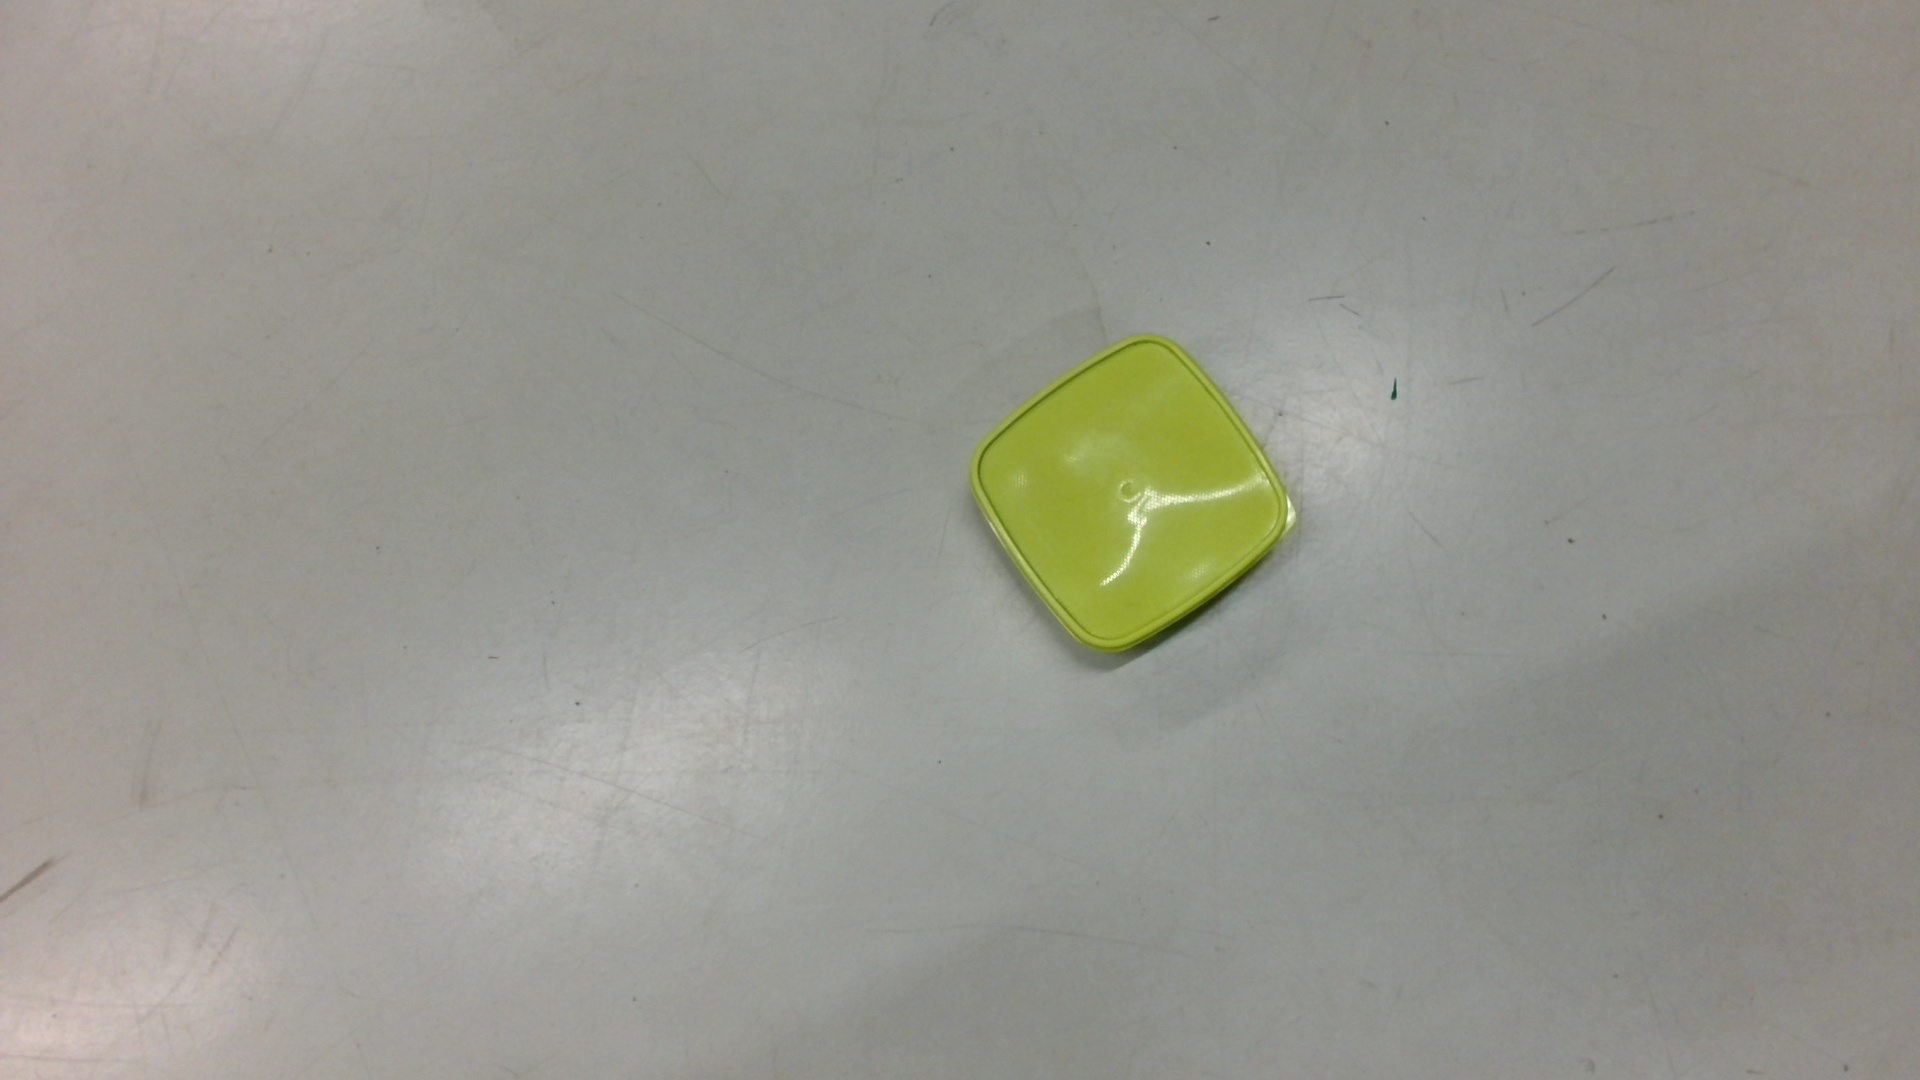Box: (961, 326, 1309, 662)
